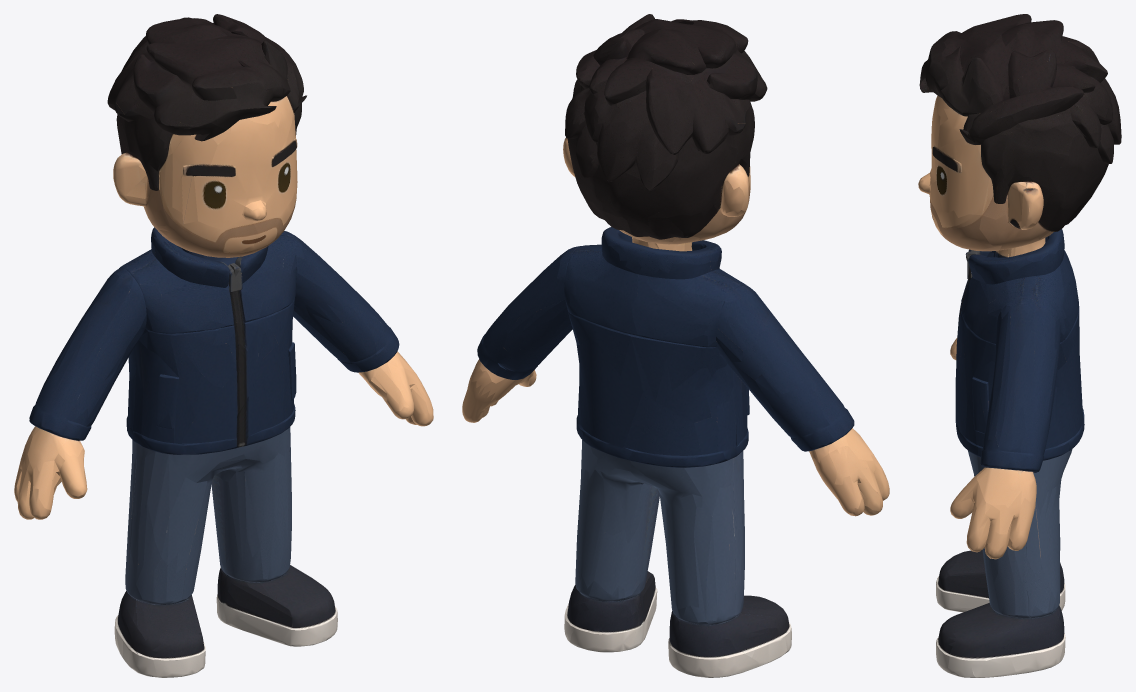
3 views of the same model, side by side, from view 1: azimuth 30°, elevation 25°; view 2: azimuth 150°, elevation 25°; view 3: azimuth 270°, elevation 25° (orthographic). The views are drawn at different scales.
Bounding box in the file's own units: 1.33 × 1.9 × 0.5849.
Materials: 1 (1 with a texture image).
